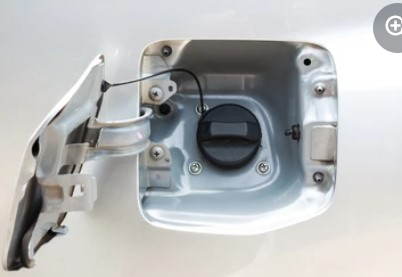open: (130, 31, 343, 241)
